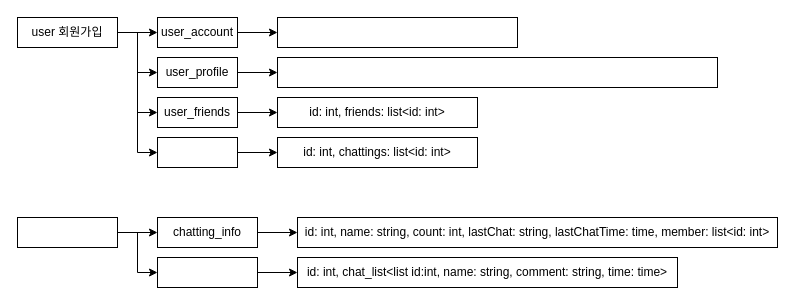
The diagram is 795 pixels wide and 305 high, and some of its shapes have lost their labels. Here are the shapes that lost their labels. From the top down, the centre of each, then its label:
At point (397, 32): "id: int, email: string, password: string".
At point (497, 72): "id: int, thumbnail: string, background: string, name: string, comment: string".
At point (197, 152): "user_chatting".
At point (67, 232): "chatting 만들기".
At point (207, 272): "chatting_comment".
